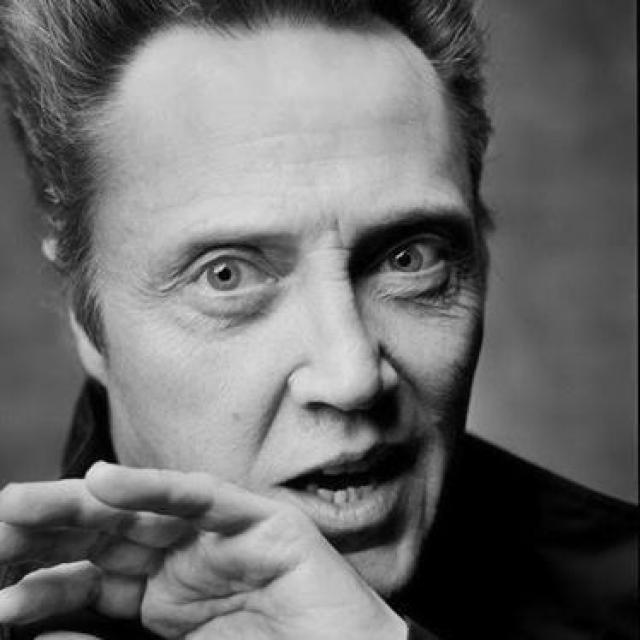surprised: (80, 32, 490, 590)
